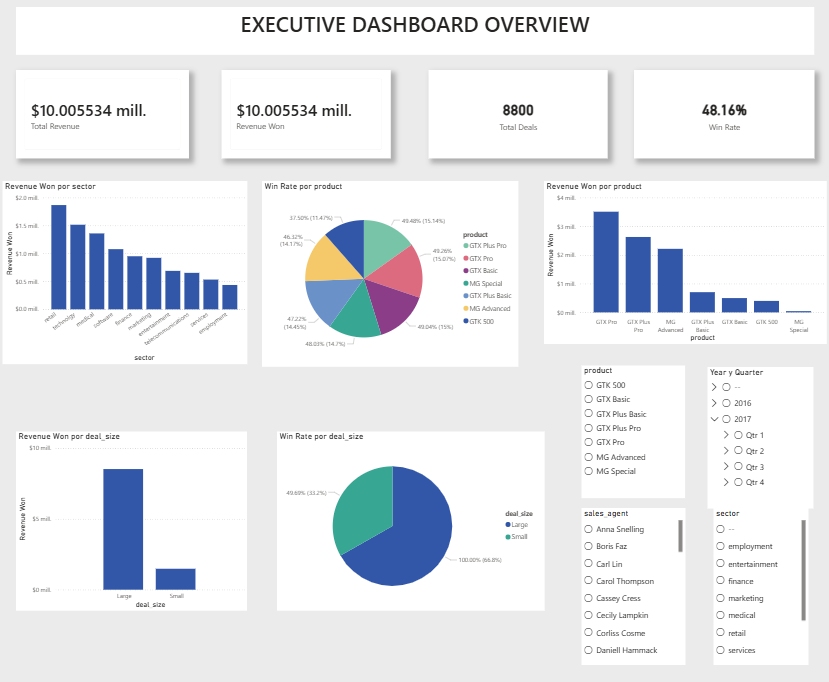

This screenshot's page, from the dashboard's own definition file:
{"tool":"powerbi","page":{"name":"Overview","canvas":[1700,1400],"ordinal":0},"visuals":[{"type":"cardVisual","fields":{"Data":["Fact_sales_pipeline.Total Revenue"]},"box":[43.4,145.4,349.5,178.6],"z":0},{"type":"cardVisual","fields":{"Data":["Fact_sales_pipeline.Revenue Won"]},"box":[456.7,145.4,341.9,178.6],"z":1000},{"type":"card","fields":{"Values":["Fact_sales_pipeline.Total Deals"]},"box":[875.1,145.4,362.3,178.6],"z":2000},{"type":"card","fields":{"Values":["Fact_sales_pipeline.Win Rate"]},"box":[1290.9,145.4,364.8,178.6],"z":3000},{"type":"pieChart","fields":{"Category":["Dim_products__2.product"],"Y":["Fact_sales_pipeline.Win Rate"]},"box":[538.3,369.9,517.9,375],"z":5000},{"type":"columnChart","fields":{"Category":["Dim_products__2.product"],"Y":["Fact_sales_pipeline.Revenue Won"]},"box":[1109.8,369.9,571.5,329.1],"z":6000},{"type":"columnChart","fields":{"Category":["Dim_accounts.sector"],"Y":["Fact_sales_pipeline.Revenue Won"]},"box":[15.3,369.9,494.9,369.9],"z":7000},{"type":"columnChart","fields":{"Category":["Fact_sales_pipeline.deal_size"],"Y":["Fact_sales_pipeline.Revenue Won"]},"box":[43.4,875.1,466.9,362.3],"z":8000},{"type":"pieChart","fields":{"Category":["Fact_sales_pipeline.deal_size"],"Y":["Fact_sales_pipeline.Win Rate"]},"box":[568.9,875.1,540.9,362.3],"z":9000},{"type":"listSlicer","fields":{"Values":["Dim_products__2.product"]},"box":[1183.8,742.4,209.2,267.9],"z":10000},{"type":"listSlicer","fields":{"Values":["Dim_accounts.sector"]},"box":[1451.7,1030.7,191.3,316.4],"z":11000},{"type":"listSlicer","fields":{"Values":["Dim_dates.year_month.Variación.Date Hierarchy.Year","Dim_dates.year_month.Variación.Date Hierarchy.Quarter","Dim_dates.year_month.Variación.Date Hierarchy.Month","Dim_dates.year_month.Variación.Date Hierarchy.Day"]},"box":[1438.9,745,214.3,285.7],"z":12000},{"type":"listSlicer","fields":{"Values":["Dim_sales_agent.sales_agent"]},"box":[1183.8,1030.7,209.2,316.4],"z":13000},{"type":"textbox","box":[43.4,17.9,1612.4,96.9],"z":13001}]}

Visuals, with their boxes in screenshot pixels (x1, y1, x2, y2), scaled from the page's 1700x1400 canvas onto the 829x682 screenshot:
cardVisual - Fact_sales_pipeline.Total Revenue: {"left": 21, "top": 71, "right": 192, "bottom": 158}
cardVisual - Fact_sales_pipeline.Revenue Won: {"left": 223, "top": 71, "right": 389, "bottom": 158}
card - Fact_sales_pipeline.Total Deals: {"left": 427, "top": 71, "right": 603, "bottom": 158}
card - Fact_sales_pipeline.Win Rate: {"left": 630, "top": 71, "right": 807, "bottom": 158}
pieChart - Dim_products__2.product x Fact_sales_pipeline.Win Rate: {"left": 263, "top": 180, "right": 515, "bottom": 363}
columnChart - Dim_products__2.product x Fact_sales_pipeline.Revenue Won: {"left": 541, "top": 180, "right": 820, "bottom": 341}
columnChart - Dim_accounts.sector x Fact_sales_pipeline.Revenue Won: {"left": 7, "top": 180, "right": 249, "bottom": 360}
columnChart - Fact_sales_pipeline.deal_size x Fact_sales_pipeline.Revenue Won: {"left": 21, "top": 426, "right": 249, "bottom": 603}
pieChart - Fact_sales_pipeline.deal_size x Fact_sales_pipeline.Win Rate: {"left": 277, "top": 426, "right": 541, "bottom": 603}
listSlicer - Dim_products__2.product: {"left": 577, "top": 362, "right": 679, "bottom": 492}
listSlicer - Dim_accounts.sector: {"left": 708, "top": 502, "right": 801, "bottom": 656}
listSlicer - Dim_dates.year_month.Variación.Date Hierarchy.Year x Dim_dates.year_month.Variación.Date Hierarchy.Quarter: {"left": 702, "top": 363, "right": 806, "bottom": 502}
listSlicer - Dim_sales_agent.sales_agent: {"left": 577, "top": 502, "right": 679, "bottom": 656}
textbox: {"left": 21, "top": 9, "right": 807, "bottom": 56}
